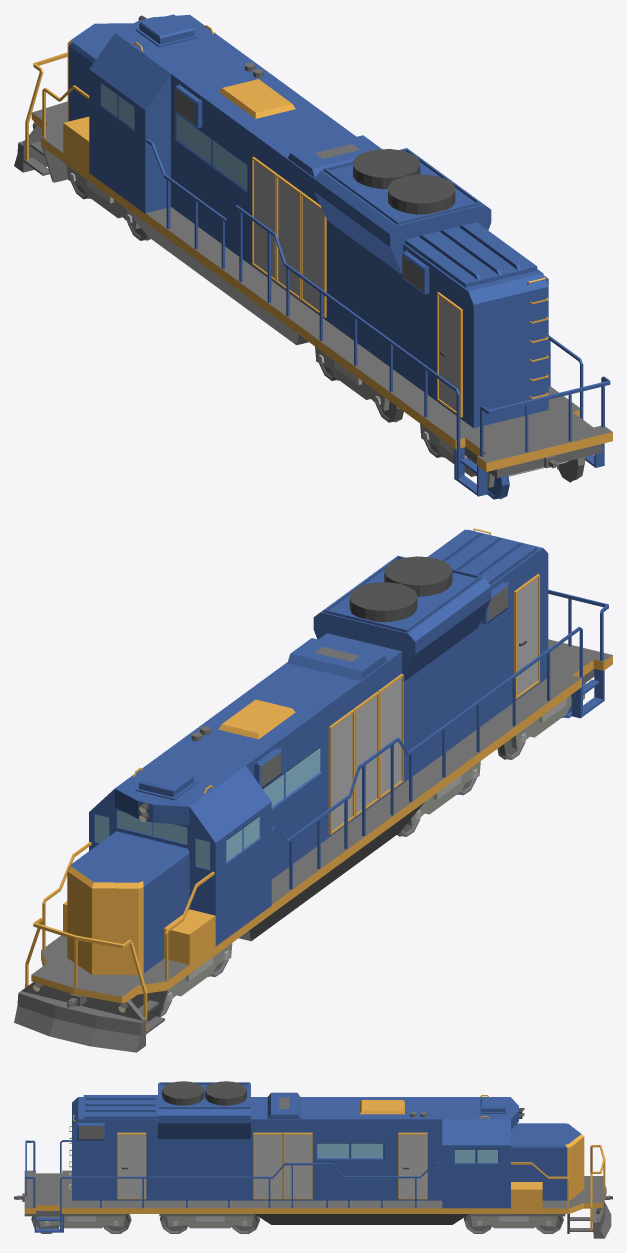
The model's file is SM_RailwayCarriage_02.fbx.
The picture shows the model from 3 angles, top to bottom: view 1: azimuth 30°, elevation 25°; view 2: azimuth 150°, elevation 25°; view 3: azimuth 270°, elevation 25°; orthographic projection. The views are drawn at different scales.
Parts seen in each view (by area): view 1: SM_RailwayCarriage_02; view 2: SM_RailwayCarriage_02; view 3: SM_RailwayCarriage_02.
Part boxes in pixels (x1,y1,x2,y2): SM_RailwayCarriage_02: (14,14,612,499); SM_RailwayCarriage_02: (14,528,612,1052); SM_RailwayCarriage_02: (14,1081,612,1238).
Bounding box in the file's own units: 264 × 434 × 1770.
